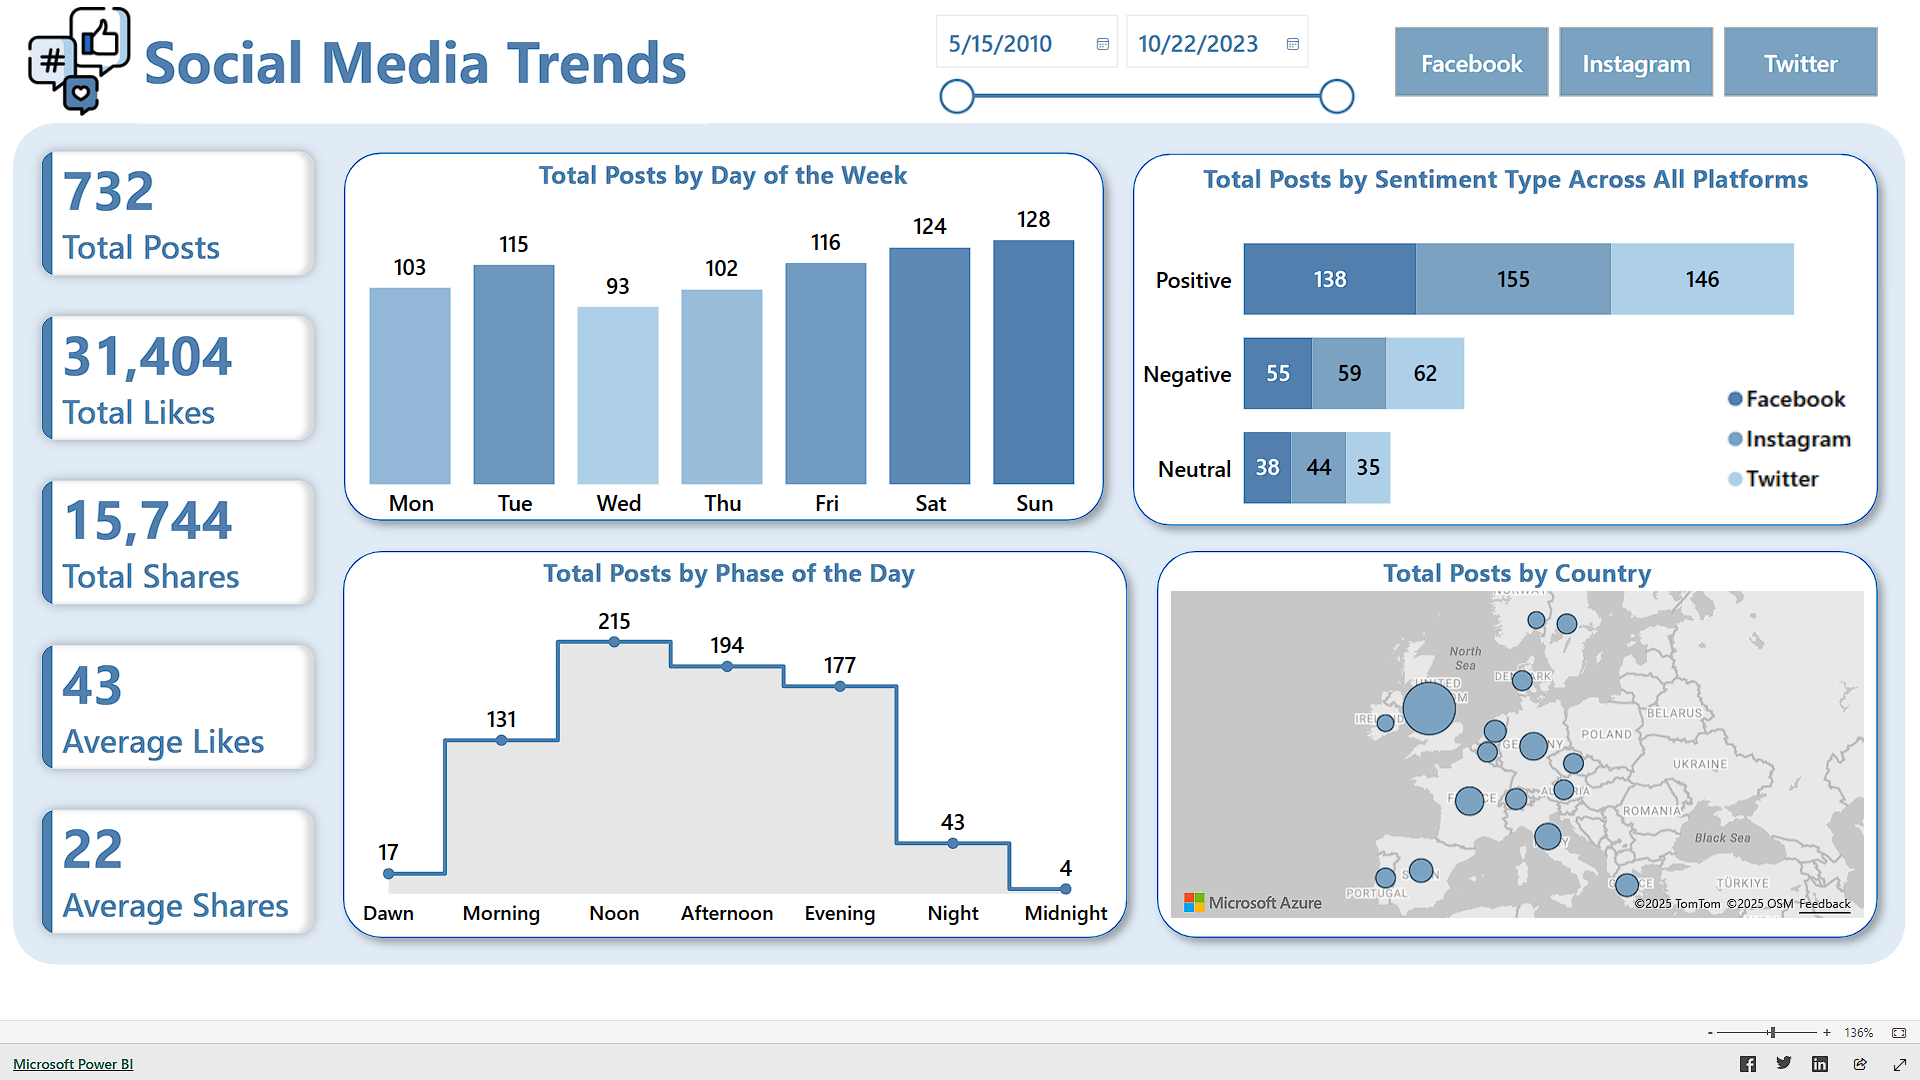

The page's visual inventory and layout, read from the dashboard file:
{"tool":"powerbi","page":{"name":"Page 1","canvas":[1412,720],"ordinal":0},"visuals":[{"type":"shape","box":[9.7,90.7,1392,619.2],"z":0},{"type":"textbox","title":"Social Media Trends","box":[100.4,0,419.2,90.7],"z":1000},{"type":"image","box":[18.2,5.5,80.9,80],"z":2000},{"type":"cardVisual","fields":{"Data":["_Measure.Total Posts","_Measure.Total Likes","_Measure.Total Shares","_Measure.Avg Likes","_Measure.Avg Shares"]},"box":[9.7,90.7,232.5,620],"z":3000},{"type":"shape","box":[241.8,90.9,580.9,302.7],"z":4000},{"type":"shape","box":[241.1,394.4,598.9,316.7],"z":5000},{"type":"columnChart","title":"Total Posts by Day of the Week","fields":{"Category":["Date.Day Name"],"Y":["_Measure.Total Posts"]},"box":[240.9,108.2,580.9,285.5],"z":6000},{"type":"lineChart","title":"Total Posts by Phase of the Day","fields":{"Y":["_Measure.Total Posts"],"Category":["Date.Phase of the Day"]},"box":[237.8,397.8,602.2,293.3],"z":7000},{"type":"shape","box":[822.2,92.2,580,305.6],"z":8000},{"type":"barChart","title":"Total Posts by Sentiment Type Across All Platforms","fields":{"Category":["Posts.Sentiment Type"],"Y":["_Measure.Total Posts"],"Series":["Posts.Platform"]},"box":[823.6,108.2,557.3,300],"z":9000},{"type":"image","box":[1258.9,266.7,105.6,110],"z":10000},{"type":"shape","box":[840,394.4,562.2,316.7],"z":11000},{"type":"azureMap","title":"Total Posts by Country","fields":{"Category":["Posts.Country"],"Size":["_Measure.Total Posts"]},"box":[851.1,401.1,530,281.1],"z":12000},{"type":"slicer","fields":{"Values":["Date.Date"]},"box":[680,5.6,318.9,85.6],"z":12001},{"type":"advancedSlicerVisual","fields":{"Values":["Posts.Platform"]},"box":[1025.6,20,355.6,51.1],"z":12002}]}

Visuals, with their boxes in screenshot pixels (x1, y1, x2, y2):
shape: [left=33, top=102, right=1900, bottom=932]
"Social Media Trends" textbox: [left=155, top=0, right=717, bottom=102]
image: [left=44, top=0, right=153, bottom=95]
cardVisual - _Measure.Total Posts x _Measure.Total Likes: [left=33, top=102, right=345, bottom=933]
shape: [left=344, top=102, right=1123, bottom=508]
shape: [left=343, top=509, right=1146, bottom=934]
"Total Posts by Day of the Week" columnChart: [left=343, top=125, right=1122, bottom=508]
"Total Posts by Phase of the Day" lineChart: [left=339, top=513, right=1146, bottom=907]
shape: [left=1123, top=104, right=1900, bottom=513]
"Total Posts by Sentiment Type Across All Platforms" barChart: [left=1124, top=125, right=1872, bottom=527]
image: [left=1708, top=338, right=1850, bottom=485]
shape: [left=1146, top=509, right=1900, bottom=934]
"Total Posts by Country" azureMap: [left=1161, top=518, right=1872, bottom=895]
slicer - Date.Date: [left=932, top=0, right=1360, bottom=102]
advancedSlicerVisual - Posts.Platform: [left=1395, top=7, right=1872, bottom=75]
